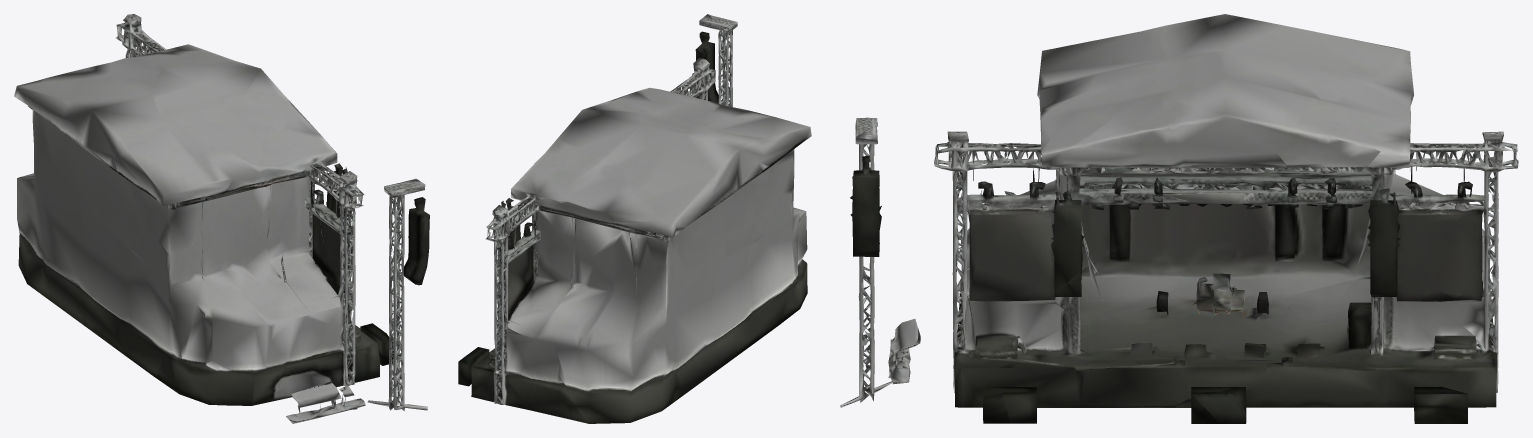
Rendered from stage.glb.
The picture shows the model from 3 angles, left to right: view 1: azimuth 30°, elevation 25°; view 2: azimuth 150°, elevation 25°; view 3: azimuth 270°, elevation 25°; orthographic projection. The views are drawn at different scales.
Visible parts, largest first — view 1: tripo_node_22d19018-d32c-4458-9bcb-b07cdd8e6fd4; view 2: tripo_node_22d19018-d32c-4458-9bcb-b07cdd8e6fd4; view 3: tripo_node_22d19018-d32c-4458-9bcb-b07cdd8e6fd4.
Part boxes in pixels (<box>): tripo_node_22d19018-d32c-4458-9bcb-b07cdd8e6fd4: <box>14,14,429,423</box>; tripo_node_22d19018-d32c-4458-9bcb-b07cdd8e6fd4: <box>458,14,811,423</box>; tripo_node_22d19018-d32c-4458-9bcb-b07cdd8e6fd4: <box>840,14,1518,423</box>.
Bounding box in the file's own units: 0.4397 × 0.471 × 1.
Materials: 1 (1 with a texture image).
